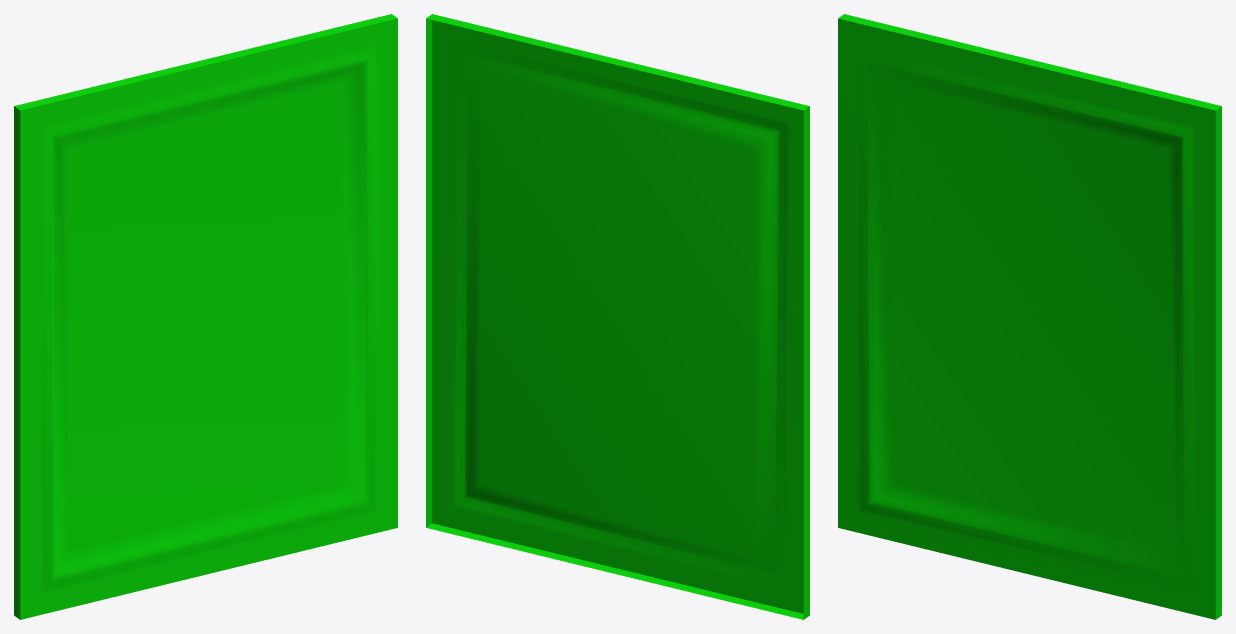
File: SetoPictureFrame1.fbx
3 renders of one model, left to right at view 1: azimuth 30°, elevation 25°; view 2: azimuth 150°, elevation 25°; view 3: azimuth 330°, elevation 25°, orthographic.
Parts seen in each view (by area): view 1: PictureFrame1; view 2: PictureFrame1; view 3: PictureFrame1.
Boxes of the visible parts, x1,y1,x2,y2 form: PictureFrame1: (14, 14, 397, 619); PictureFrame1: (426, 14, 809, 619); PictureFrame1: (838, 14, 1221, 619).
Bounding box in the file's own units: 0.9233 × 1.19 × 0.0315.
